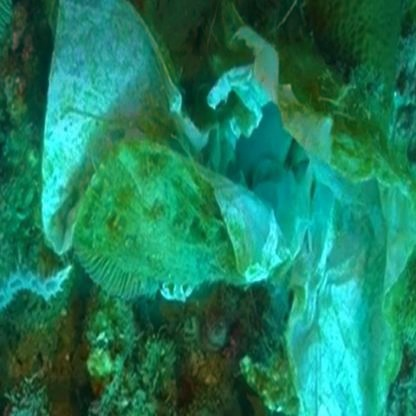plastic: (78, 78, 400, 361)
